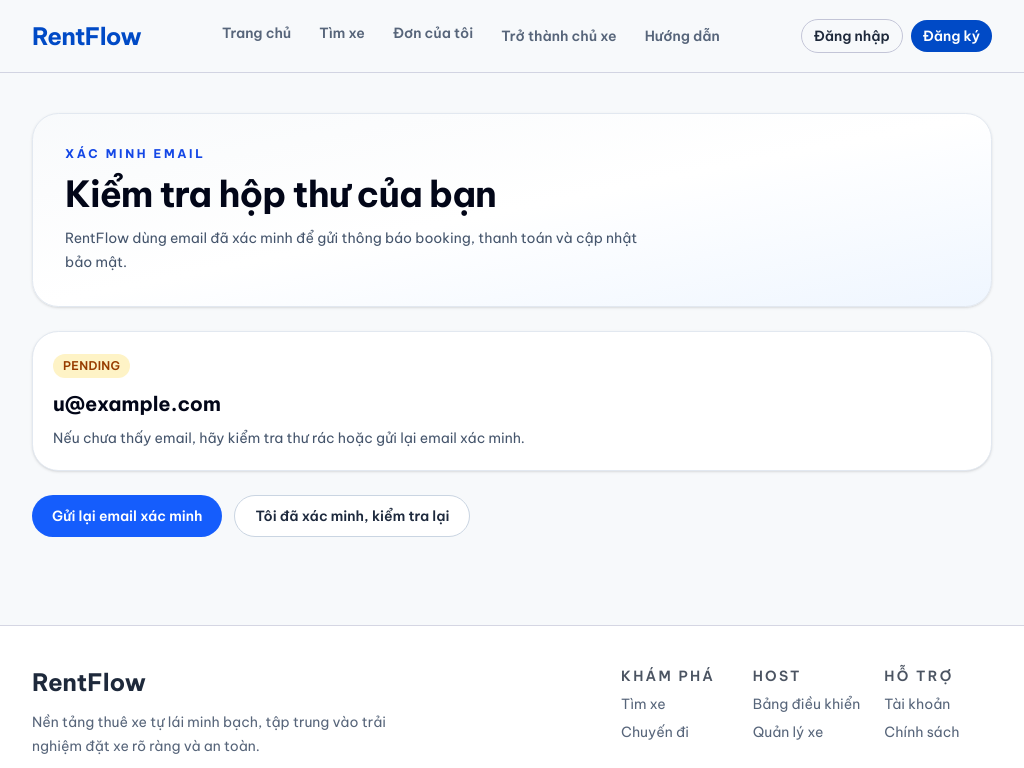
Test: EmailOnboardingPageView › sends resend request with active access token and maps 403 to session copy
expect the heading "Kiểm tra hộp thư của bạn" is shown: met, box [65,171,496,217]
Click the button "Gửi lại email xác minh": click(127, 516) [32,495,222,537]
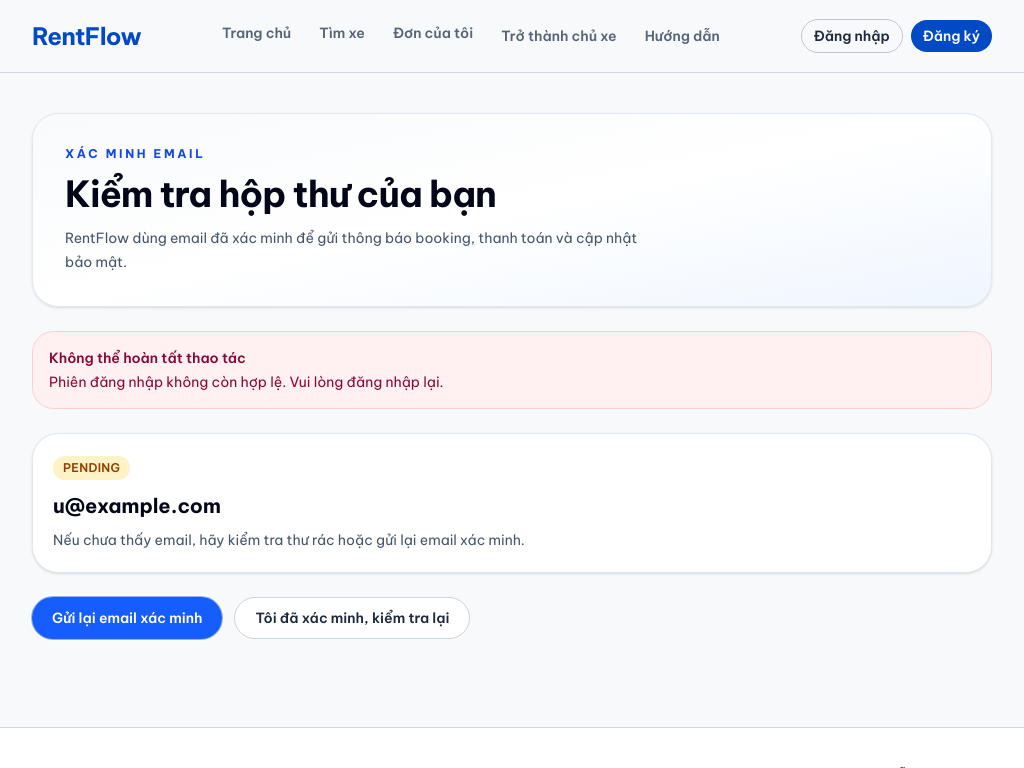
expect the text "Phiên đăng nhập không còn hợp lệ. Vui lòng đăng nhập lại." is shown: met, box [49,373,444,391]
